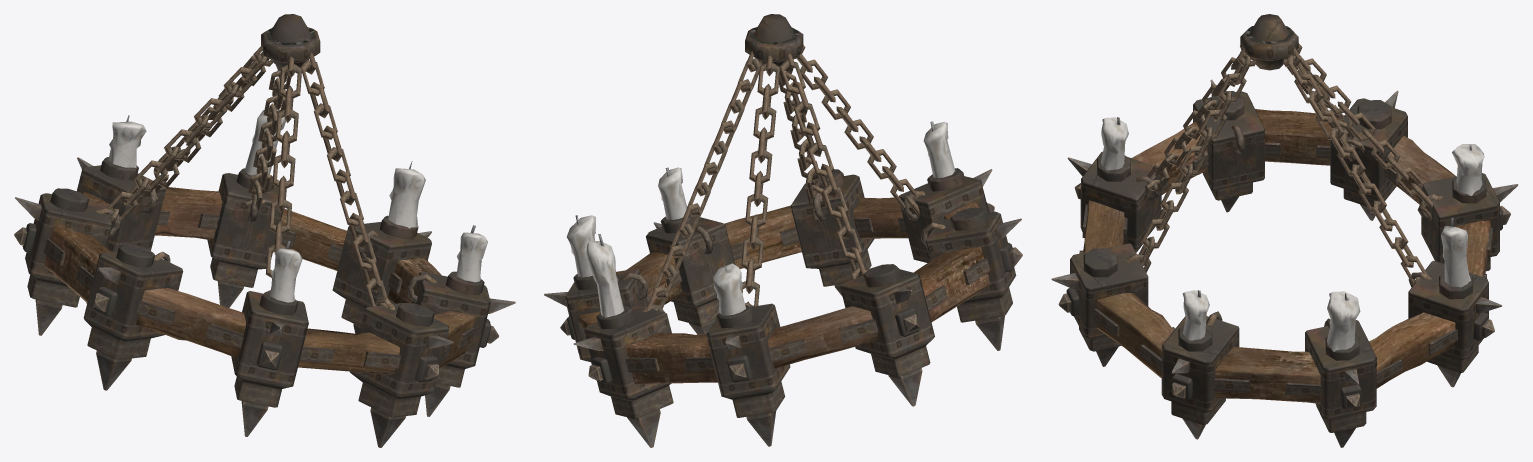
3 views of the same model, side by side, from view 1: azimuth 30°, elevation 25°; view 2: azimuth 150°, elevation 25°; view 3: azimuth 270°, elevation 25° (orthographic). The views are drawn at different scales.
Parts seen in each view (by area): view 1: SM_DR_Chandelier_03_LOD0; view 2: SM_DR_Chandelier_03_LOD0; view 3: SM_DR_Chandelier_03_LOD0.
Boxes of the visible parts, <box> form: SM_DR_Chandelier_03_LOD0: <box>14,14,515,447</box>; SM_DR_Chandelier_03_LOD0: <box>544,14,1022,447</box>; SM_DR_Chandelier_03_LOD0: <box>1051,14,1518,447</box>.
Size of the model in its own units: 1.49 by 1.37 by 1.54.
4 materials, 4 textured.
